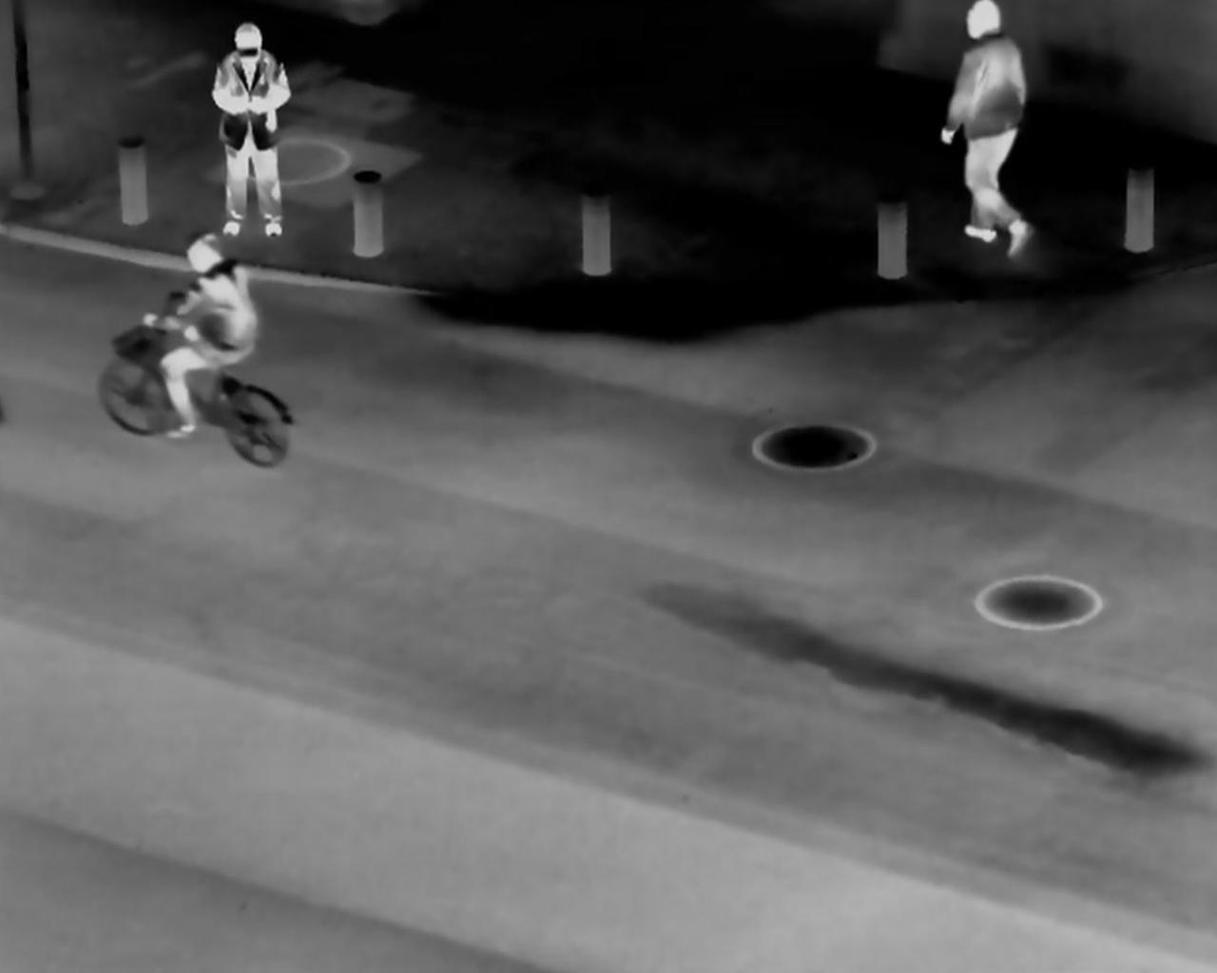person: (136, 231, 262, 451), (198, 19, 311, 236), (944, 2, 1039, 258)
